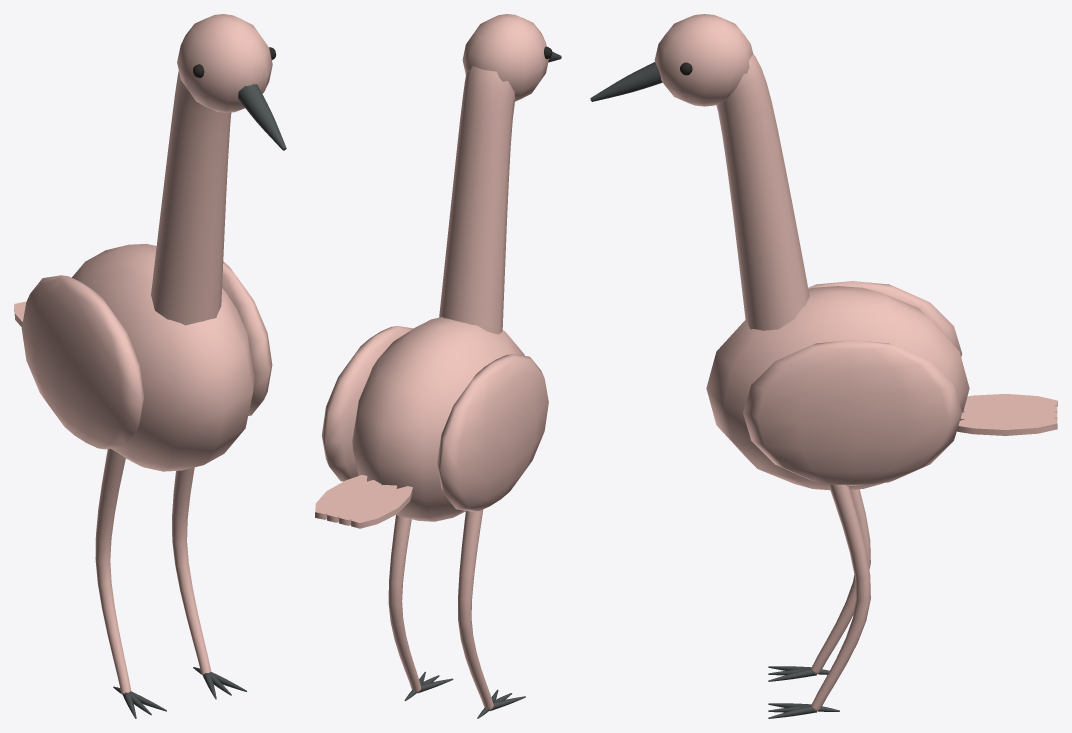
File: birds-and-flying-creatures-greater-flamingo-91c88aa7__20593.glb
3 renders of one model, left to right at view 1: azimuth 30°, elevation 25°; view 2: azimuth 150°, elevation 25°; view 3: azimuth 270°, elevation 25°, orthographic. The views are drawn at different scales.
Visible parts, largest first — view 1: greater-flamingo; view 2: greater-flamingo; view 3: greater-flamingo.
Part boxes in pixels (x1,y1,x2,y2): greater-flamingo: (14,14,286,718); greater-flamingo: (315,14,561,718); greater-flamingo: (590,14,1057,718).
Bounding box in the file's own units: 0.4174 × 1.63 × 1.02.
